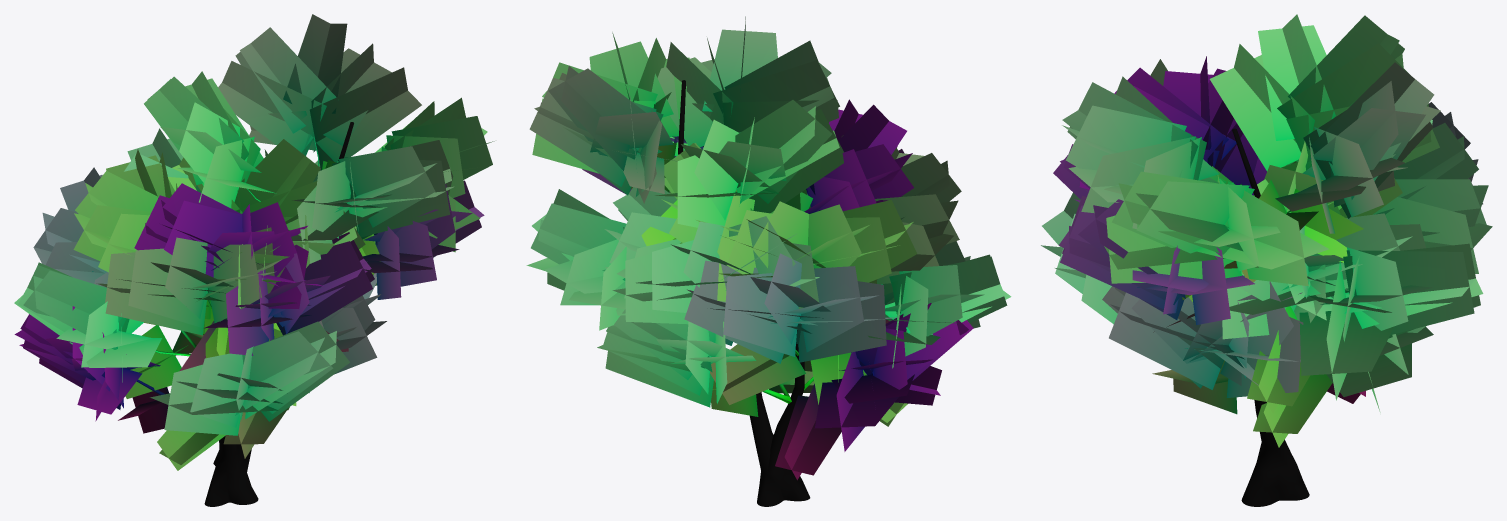
The model's file is Tree_3_7.fbx.
The picture shows the model from 3 angles, left to right: view 1: azimuth 30°, elevation 25°; view 2: azimuth 150°, elevation 25°; view 3: azimuth 270°, elevation 25°; orthographic projection. The views are drawn at different scales.
Visible parts, largest first — view 1: _7; view 2: _7; view 3: _7.
Boxes of the visible parts, x1,y1,x2,y2 form: _7: (14, 14, 494, 506); _7: (526, 16, 1011, 506); _7: (1041, 14, 1492, 506).
Bounding box in the file's own units: 2213 × 2028 × 1692.
